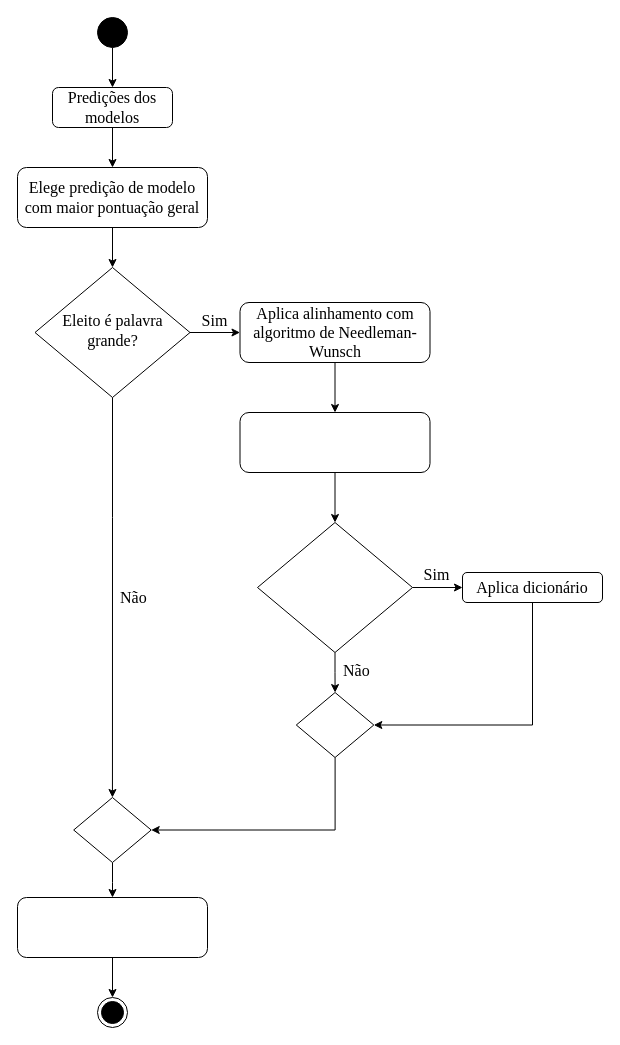
The diagram is 620 pixels wide and 1045 high, and some of its shapes have lost their labels. Each missing label, with the box of its shape:
Elege caracteres baseado nos pesos das confianças/ logits: (239, 412, 430, 472)
Possui algum caractere de baixa confiança?: (256, 522, 412, 652)
Retorna palavra predita: (16, 896, 208, 958)
